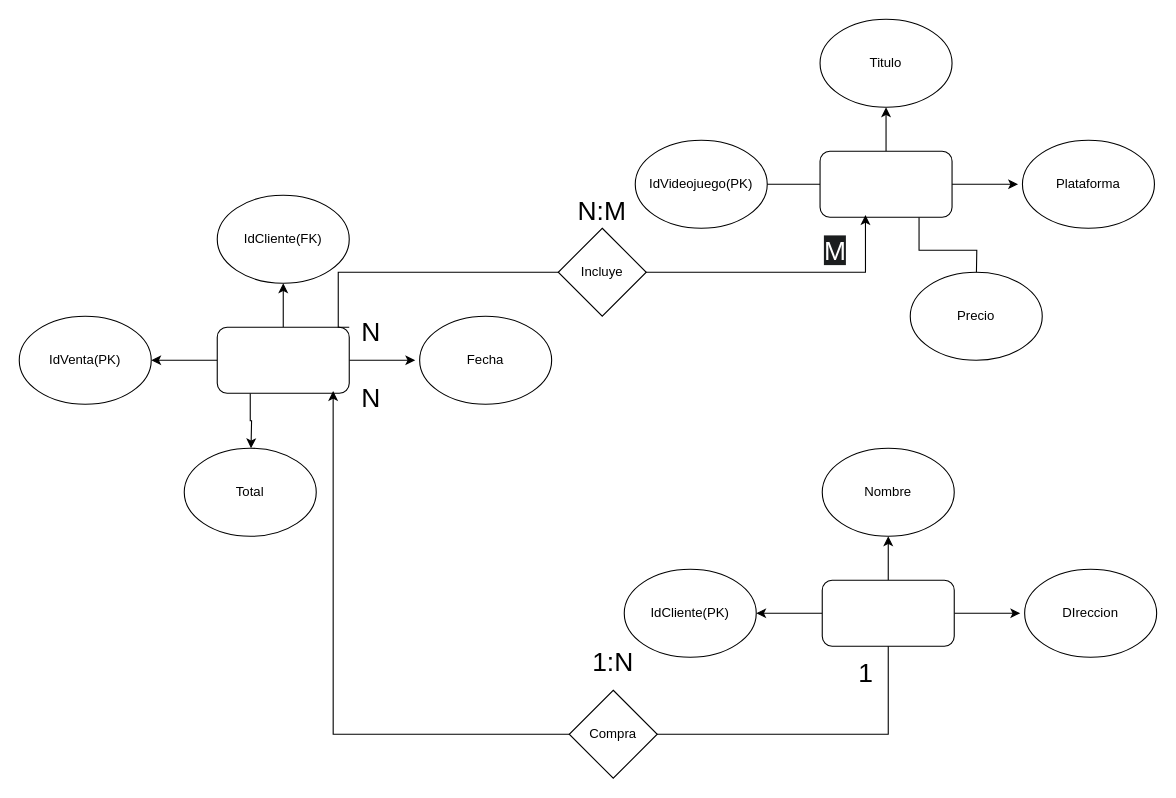
Some shapes in this 1176 by 798 pixel diagram are drawn without their labels. Each missing label, with the centre of its shape:
"Cliente" belongs at point (887, 612).
"Venta" belongs at point (282, 359).
"Videojuego" belongs at point (885, 183).
